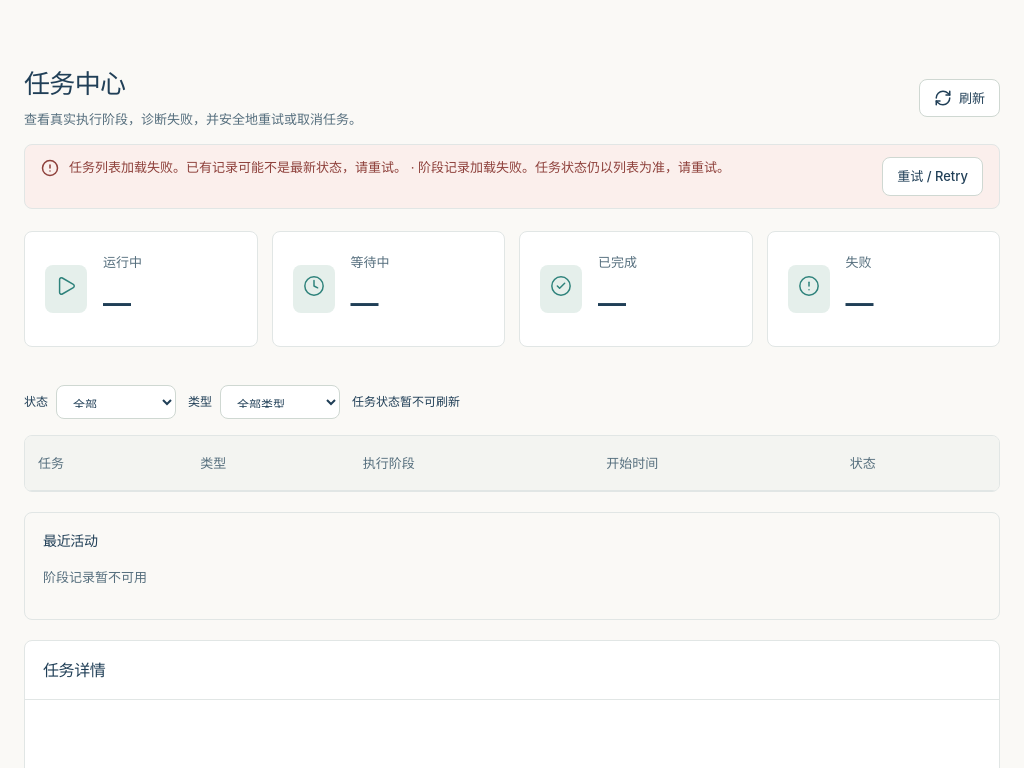
Test: initial failures never claim no data or show zero metrics
Expected: the message "任务列表加载失败。已有记录可能不是最新状态，请重试。 · 阶段记录加载失败。任务状态仍以列表为准，请重试。 重试 / Retry" is shown, [24, 144, 1000, 209]
Expected: the text "暂无符合条件的任务" is not shown
Click the button with aria-label "刷新任务" at (960, 98), box [919, 79, 1000, 118]
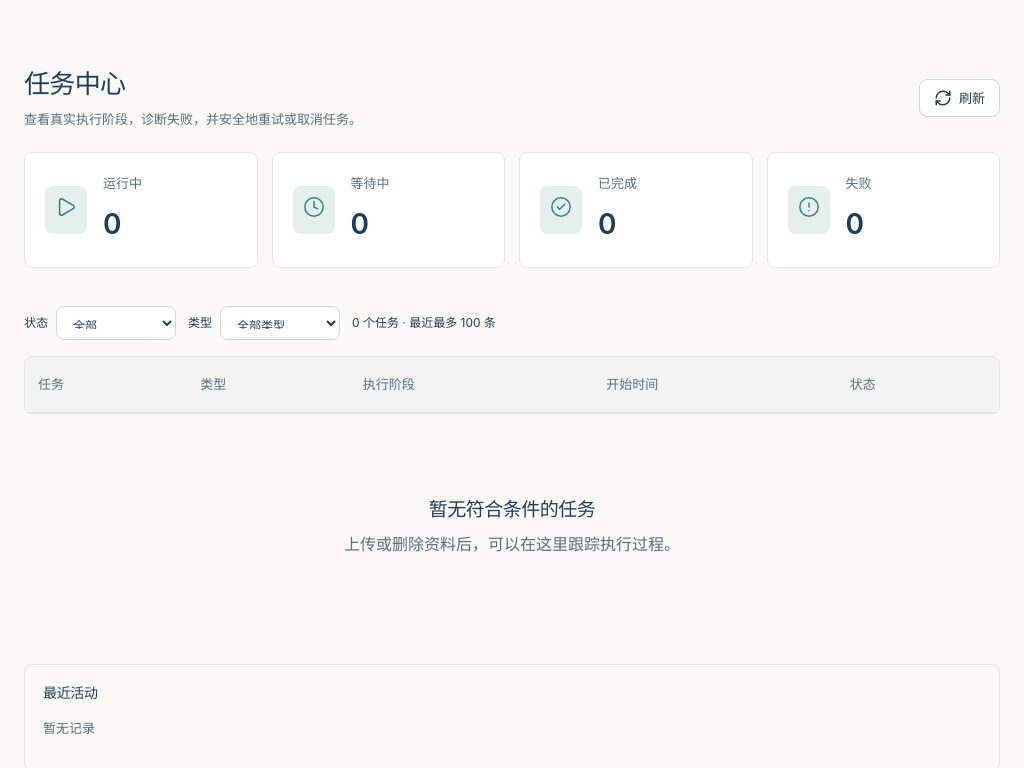
Expected: the heading "暂无符合条件的任务" is shown, [429, 498, 595, 524]
Expected: the text "暂无记录" is shown, [43, 720, 95, 736]
